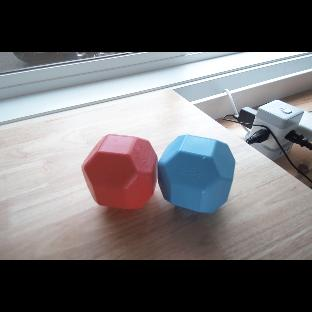V5_BLUE: (160, 135, 236, 214)
V5_RED: (82, 135, 157, 210)
pieces: (74, 125, 240, 226)
